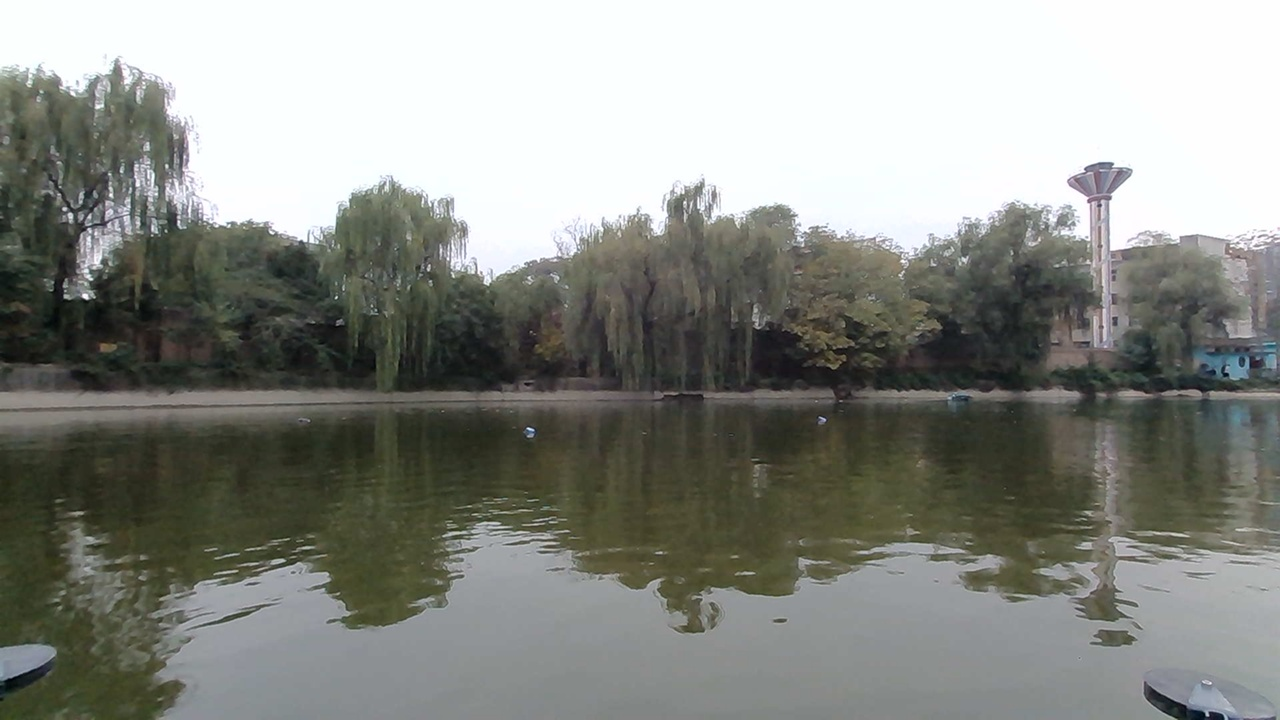bottle: (288, 402, 324, 433), (514, 414, 553, 442), (805, 406, 836, 427)
